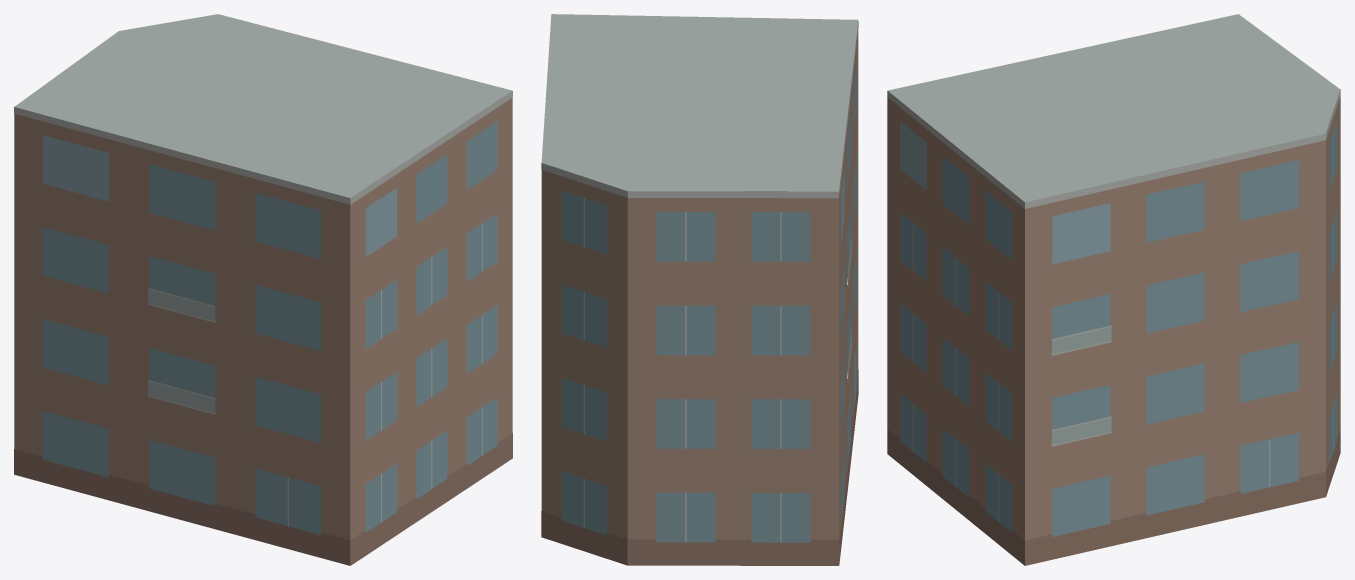
Rendered from survey-upis-32737208.glb.
3 views of the same model, side by side, from view 1: azimuth 30°, elevation 25°; view 2: azimuth 150°, elevation 25°; view 3: azimuth 270°, elevation 25° (orthographic). The views are drawn at different scales.
Parts seen in each view (by area): view 1: survey-upis-32737208.tmp; view 2: survey-upis-32737208.tmp; view 3: survey-upis-32737208.tmp.
Boxes of the visible parts, x1,y1,x2,y2 form: survey-upis-32737208.tmp: [14, 14, 512, 565]; survey-upis-32737208.tmp: [541, 14, 858, 565]; survey-upis-32737208.tmp: [887, 14, 1340, 565].
Bounding box in the file's own units: 15.13 × 13.6 × 15.38.
